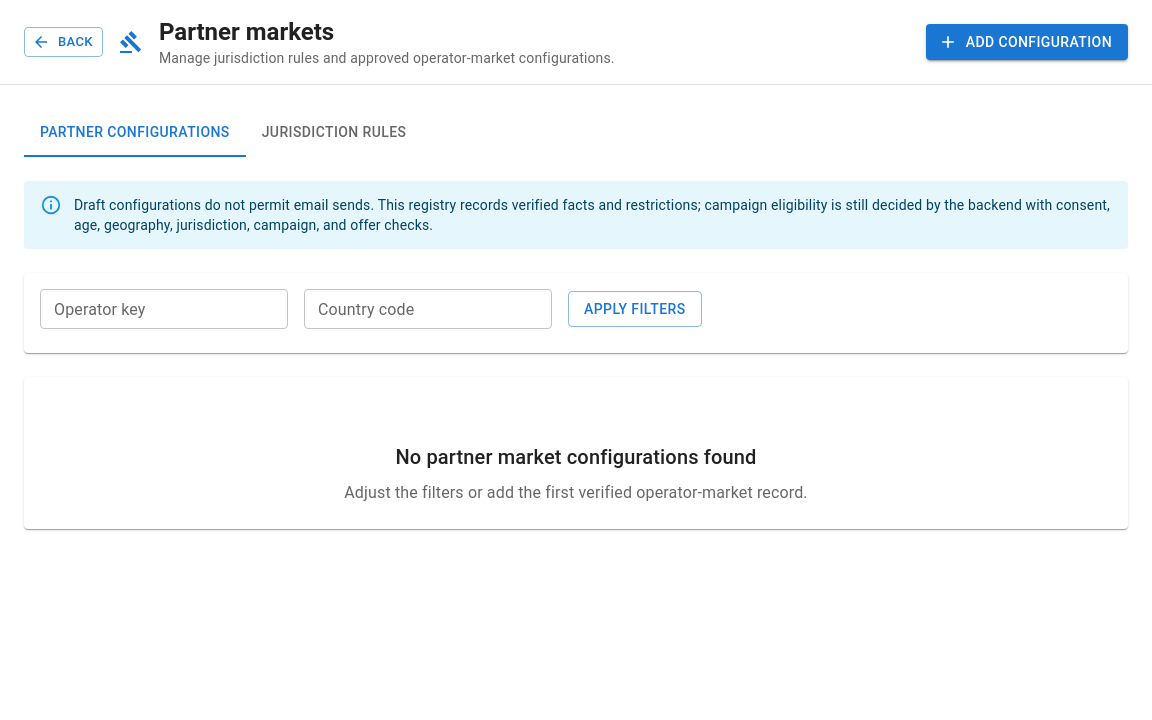
it: PartnerMarketsPage › manages jurisdiction rules in a separate tab on the Partner markets screen
Expected: the tab "Partner configurations" is shown, 24,109 -> 246,157
Click the tab "Jurisdiction rules" at [334, 133], box 246,109 -> 422,157
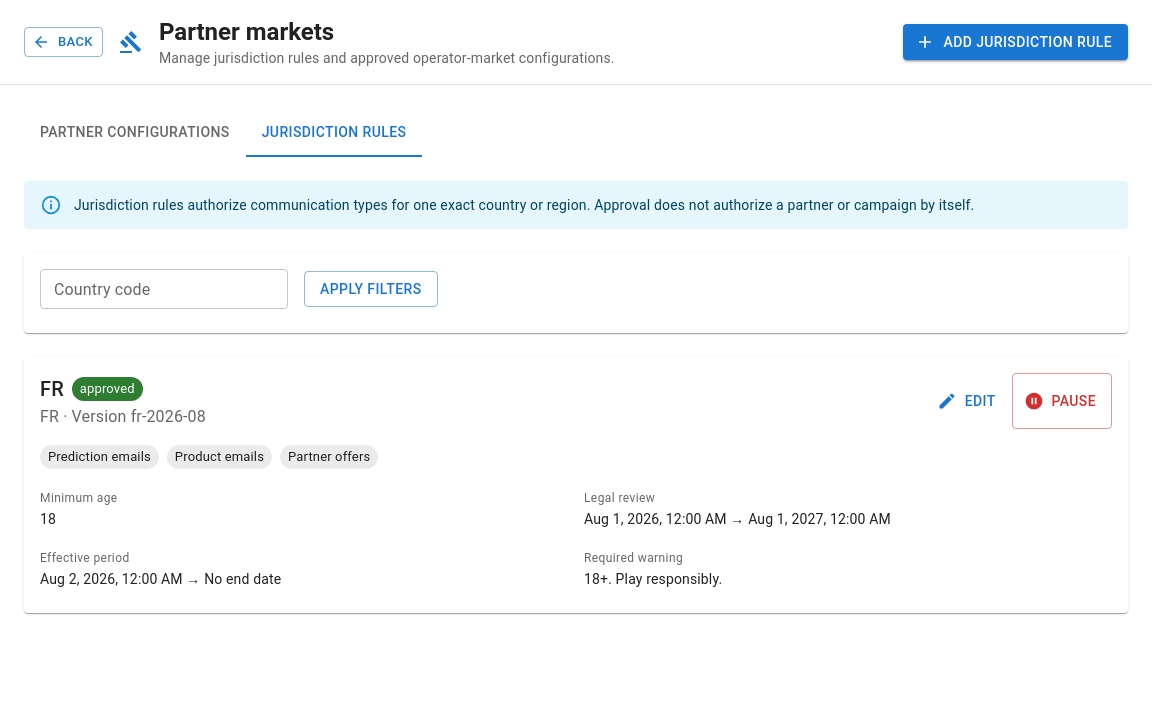
Expected: the button "Add jurisdiction rule" is enabled, 904,24 -> 1128,60
Result: the text "FR · Version fr-2026-08" is shown at 40,405 -> 206,429
Result: the text "Partner offers" is shown at 288,449 -> 370,464
